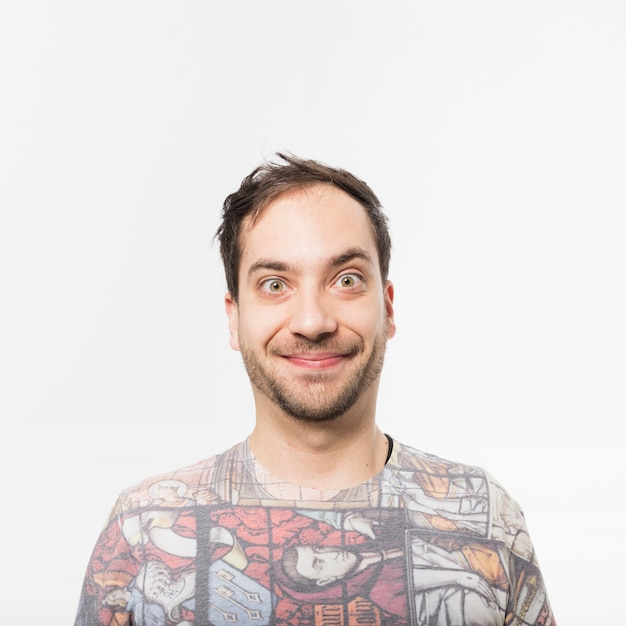young: (196, 148, 403, 431)
